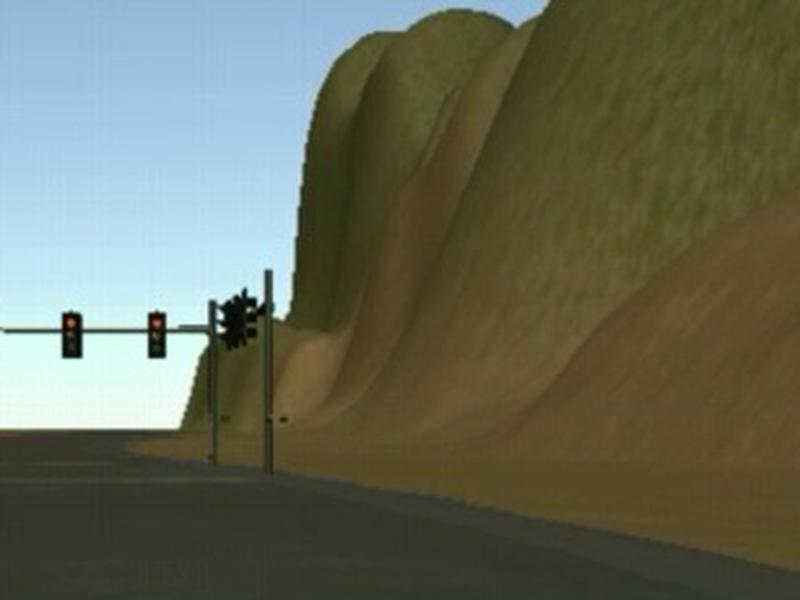Red: (62, 312, 82, 358), (148, 312, 166, 358)
